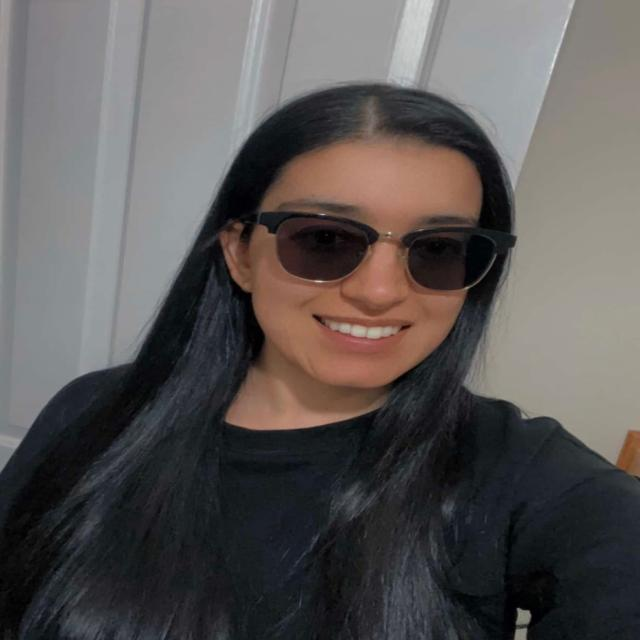2_gafas: (237, 210, 517, 292)
